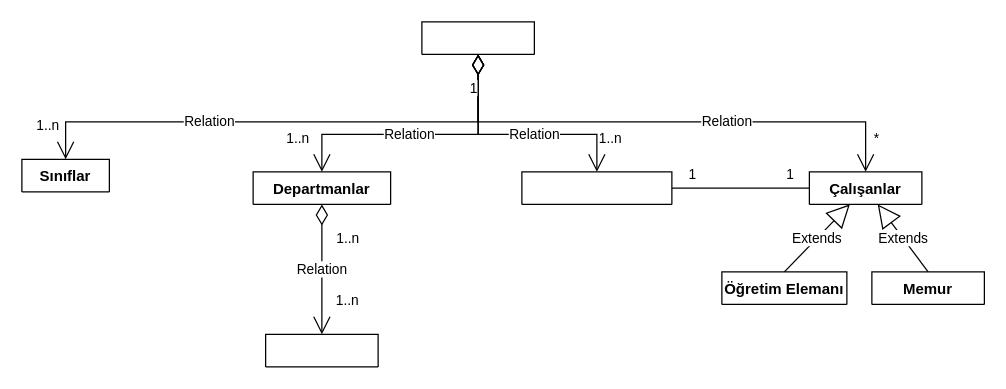
Some shapes in this 1006 by 389 pixel diagram are drawn without their labels. The shapes that lost their labels are listed below. From the top down, each one's centre as x and y in pixels, then its label:
point (477, 37): Üniversite
point (596, 187): Çalışma Ofisleri
point (321, 350): Ofisler
